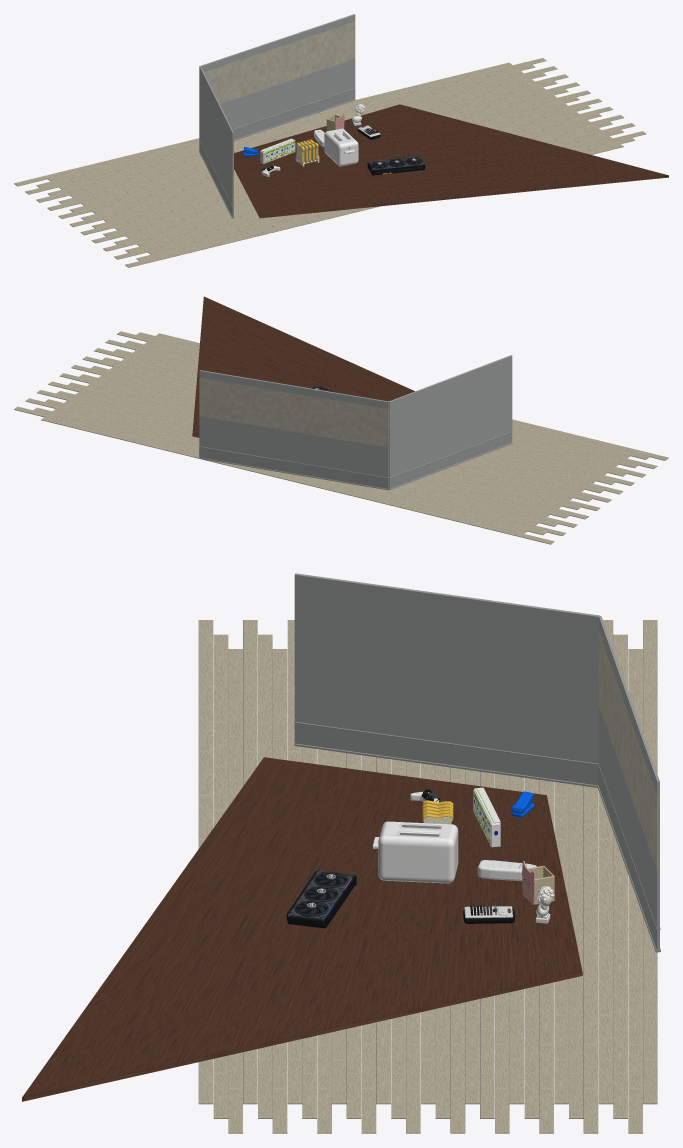
Rendered from codex.glb.
The picture shows the model from 3 angles, top to bottom: view 1: azimuth 30°, elevation 25°; view 2: azimuth 150°, elevation 25°; view 3: azimuth 270°, elevation 25°; orthographic projection. The views are drawn at different scales.
Parts seen in each view (by area): view 1: wallpaper panel.001, room wall 1, room wall 0, walnut board 18 00, walnut board 13 02, molded skirting 1, dark walnut table edge, walnut board 14 01, walnut board 08 02, walnut board 17 01, rounded white toaster shell, walnut board 12 00 (+24 smaller); view 2: room wall 0, room wall 1, wallpaper panel.001, molded skirting 1, molded skirting 0, walnut board 13 02, walnut board 17 01, walnut board 14 01, walnut board 18 00, walnut board 15 01, walnut board 16 01, walnut board 11 02 (+6 smaller); view 3: room wall 0, molded skirting 0, room wall 1, walnut board 13 02, wallpaper panel.001, walnut board 18 00, rounded white toaster shell, walnut board 14 01, walnut board 08 02, walnut board 17 01, walnut board 04 02, walnut board 05 02 (+39 smaller).
Part boxes in pixels (left/top/right/bottom): wallpaper panel.001: left=204, top=22, right=355, bottom=103; room wall 1: left=200, top=14, right=355, bottom=129; room wall 0: left=199, top=66, right=233, bottom=218; walnut board 18 00: left=258, top=184, right=543, bottom=216; walnut board 13 02: left=348, top=153, right=597, bottom=187; molded skirting 1: left=233, top=89, right=355, bottom=139; dark walnut table edge: left=234, top=167, right=668, bottom=218; walnut board 14 01: left=311, top=165, right=544, bottom=195; walnut board 08 02: left=321, top=134, right=526, bottom=170; walnut board 17 01: left=409, top=173, right=605, bottom=196; rounded white toaster shell: left=324, top=128, right=358, bottom=166; walnut board 12 00: left=248, top=166, right=451, bottom=196; room wall 0: left=389, top=355, right=512, bottom=489; room wall 1: left=199, top=370, right=388, bottom=488; wallpaper panel.001: left=199, top=378, right=388, bottom=447; molded skirting 1: left=199, top=447, right=388, bottom=488; molded skirting 0: left=389, top=432, right=512, bottom=488; walnut board 13 02: left=200, top=333, right=359, bottom=396; walnut board 17 01: left=237, top=319, right=379, bottom=385; walnut board 14 01: left=251, top=347, right=383, bottom=400; walnut board 18 00: left=292, top=337, right=414, bottom=393; walnut board 15 01: left=252, top=340, right=364, bottom=390; walnut board 16 01: left=290, top=349, right=400, bottom=398; walnut board 11 02: left=199, top=347, right=305, bottom=387; room wall 0: left=294, top=573, right=599, bottom=763; molded skirting 0: left=294, top=723, right=598, bottom=785; room wall 1: left=598, top=616, right=659, bottom=952; walnut board 13 02: left=169, top=854, right=307, bottom=1064; wallpaper panel.001: left=598, top=631, right=659, bottom=869; walnut board 18 00: left=96, top=757, right=278, bottom=993; rounded white toaster shell: left=378, top=821, right=458, bottom=883; walnut board 14 01: left=174, top=817, right=309, bottom=1013; walnut board 08 02: left=317, top=869, right=393, bottom=1031; walnut board 17 01: left=79, top=889, right=209, bottom=1050; walnut board 04 02: left=435, top=867, right=477, bottom=1004; walnut board 05 02: left=405, top=875, right=456, bottom=1011.
Size of what is drawn, in the model's own units: 38.49 by 6.05 by 20.28.
Materials: 462 (414 with a texture image).
